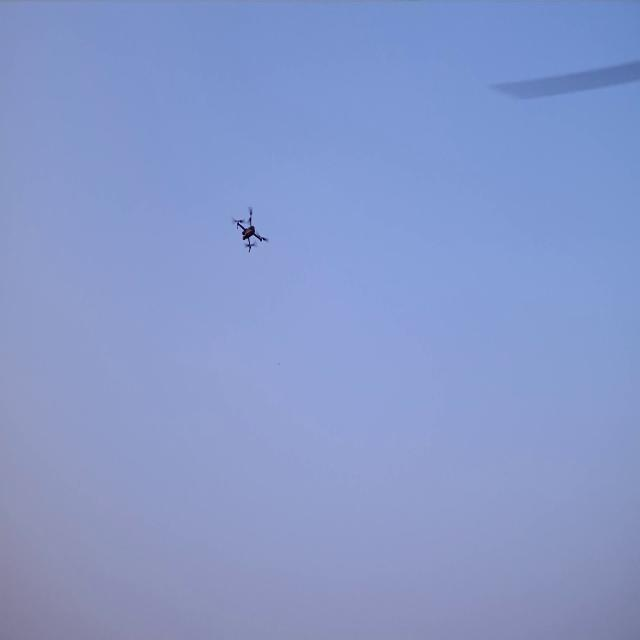UAV: (237, 212, 265, 251)
